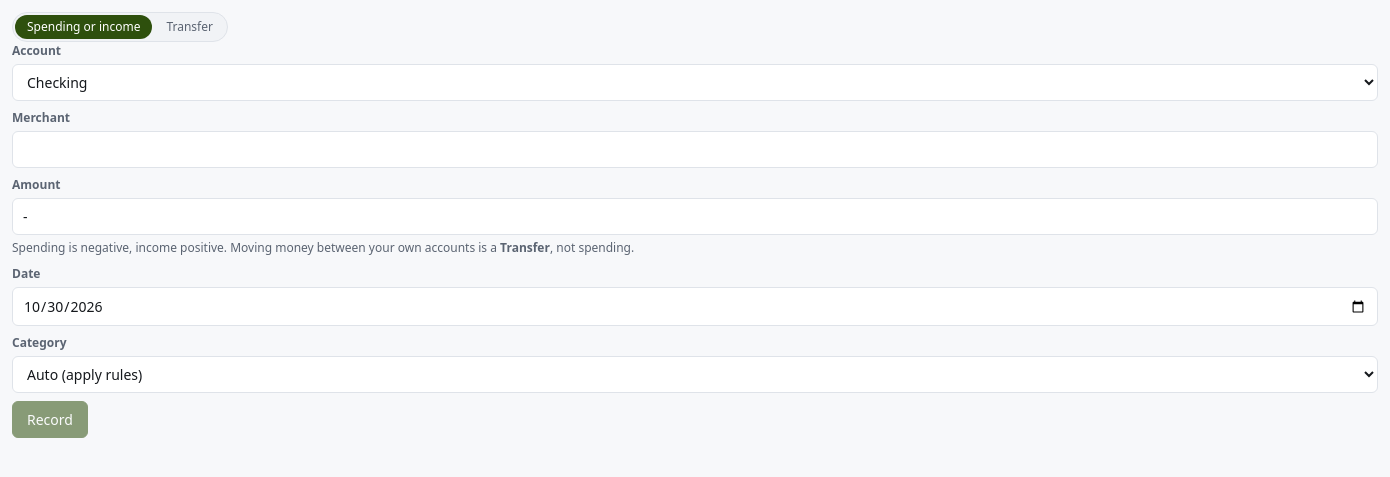
Test: recording spending or income › puts the server's issue on the field it names and keeps what was typed
The width and height of the screenshot is (1390, 477).
Step 1. Type "Cafe" into the field labelled "Merchant" → (695, 150), box top-left (12, 131), bottom-right (1378, 168)
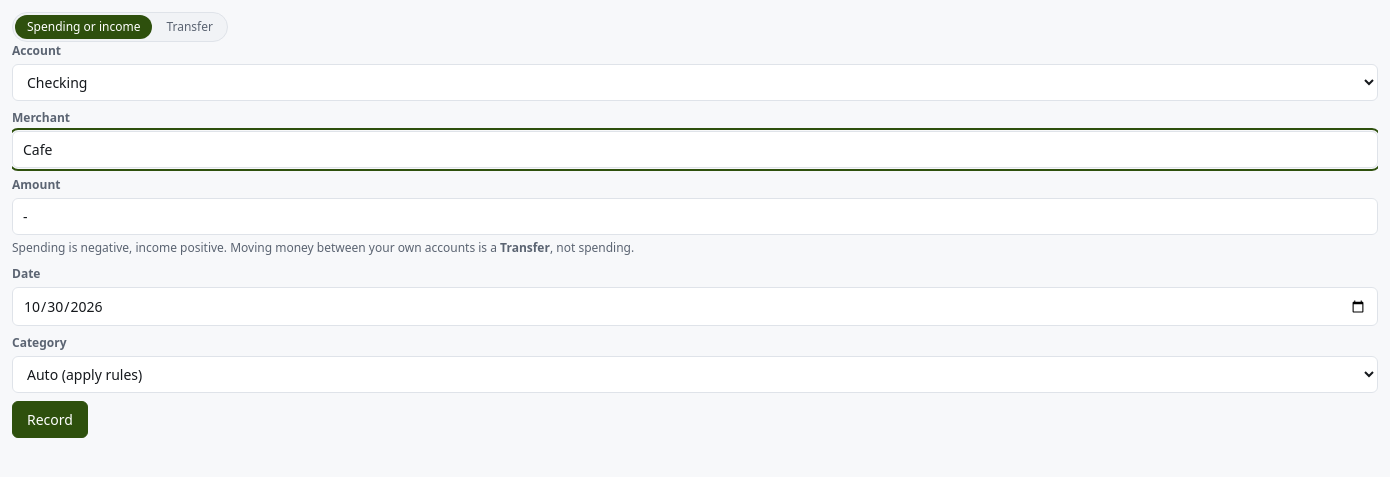
Step 2. Type "4.50" into the field labelled "Amount" → (695, 217), box top-left (12, 198), bottom-right (1378, 235)
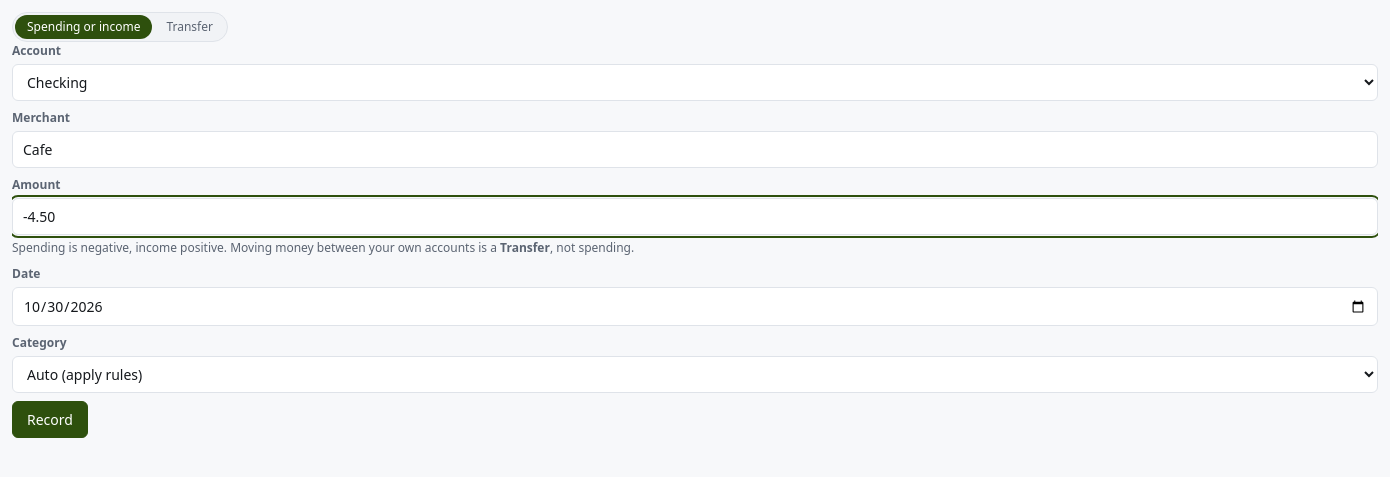
Step 3. Click the button "Record" → (50, 420), box top-left (12, 401), bottom-right (88, 438)
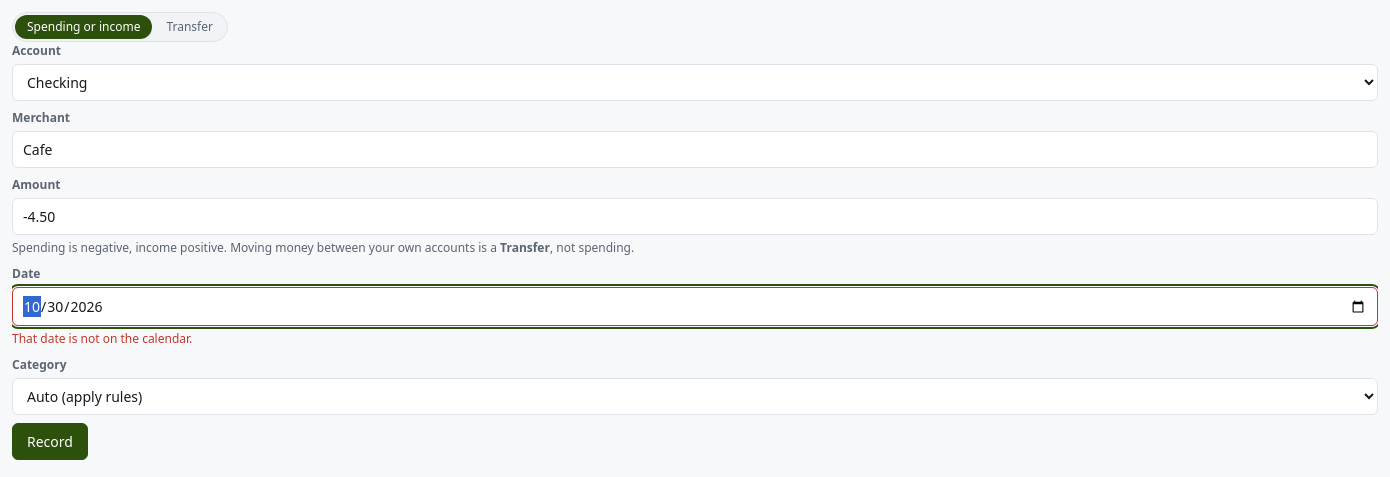
Check: the text "That date is not on the calendar." is shown, box top-left (12, 330), bottom-right (192, 347)
